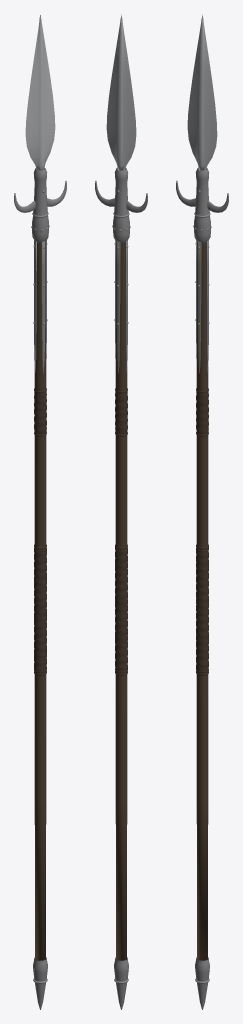
Rendered from gear_spear.glb.
The picture shows the model from 3 angles, left to right: view 1: azimuth 30°, elevation 25°; view 2: azimuth 150°, elevation 25°; view 3: azimuth 330°, elevation 25°; orthographic projection.
Visible parts, largest first — view 1: gear_spear; view 2: gear_spear; view 3: gear_spear.
Boxes of the visible parts, x1,y1,x2,y2 form: gear_spear: (14,15,66,1009); gear_spear: (95,14,147,1009); gear_spear: (176,14,228,1009).
Bounding box in the file's own units: 0.1445 × 2.6 × 0.0414.
